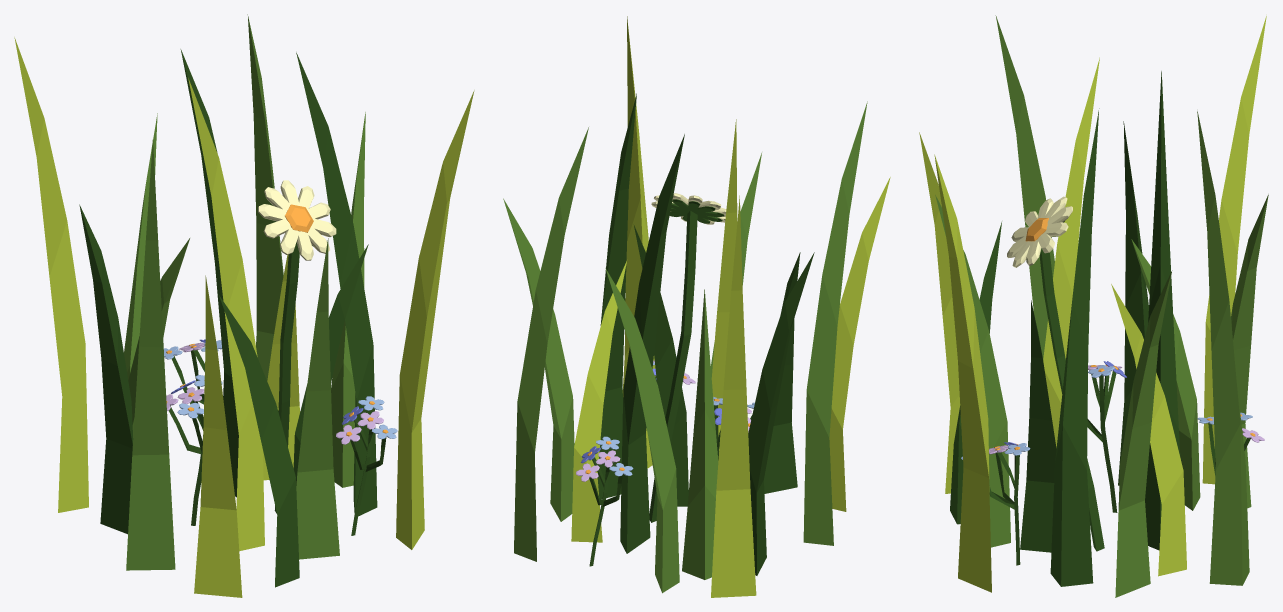
Rendered from pikem muru lilledega.fbx.
3 views of the same model, side by side, from view 1: azimuth 30°, elevation 25°; view 2: azimuth 150°, elevation 25°; view 3: azimuth 270°, elevation 25° (orthographic). The views are drawn at different scales.
Parts seen in each view (by area): view 1: karikakar; view 2: karikakar; view 3: karikakar.
Part boxes in pixels (x1,y1,x2,y2): karikakar: (14,14,474,597); karikakar: (503,16,890,597); karikakar: (919,15,1268,597).
Bounding box in the file's own units: 108 × 152 × 107.
